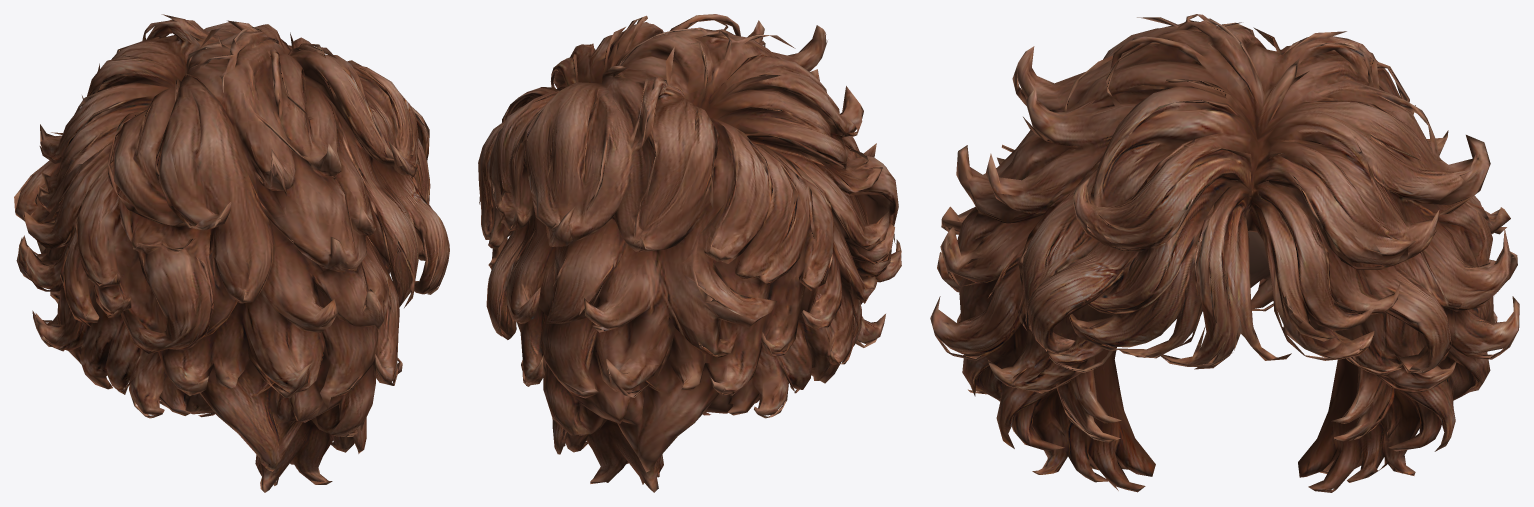
File: volume.glb
3 renders of one model, left to right at view 1: azimuth 30°, elevation 25°; view 2: azimuth 150°, elevation 25°; view 3: azimuth 270°, elevation 25°, orthographic. The views are drawn at different scales.
Visible parts, largest first — view 1: tripo_node_b9637a2a-95bc-4959-ba8b-d499547fae95; view 2: tripo_node_b9637a2a-95bc-4959-ba8b-d499547fae95; view 3: tripo_node_b9637a2a-95bc-4959-ba8b-d499547fae95.
Part boxes in pixels (<box>): tripo_node_b9637a2a-95bc-4959-ba8b-d499547fae95: <box>14,14,449,492</box>; tripo_node_b9637a2a-95bc-4959-ba8b-d499547fae95: <box>478,14,901,492</box>; tripo_node_b9637a2a-95bc-4959-ba8b-d499547fae95: <box>930,14,1519,492</box>.
Bounding box in the file's own units: 0.7916 × 0.8457 × 0.9786.
Materials: 1 (1 with a texture image).
